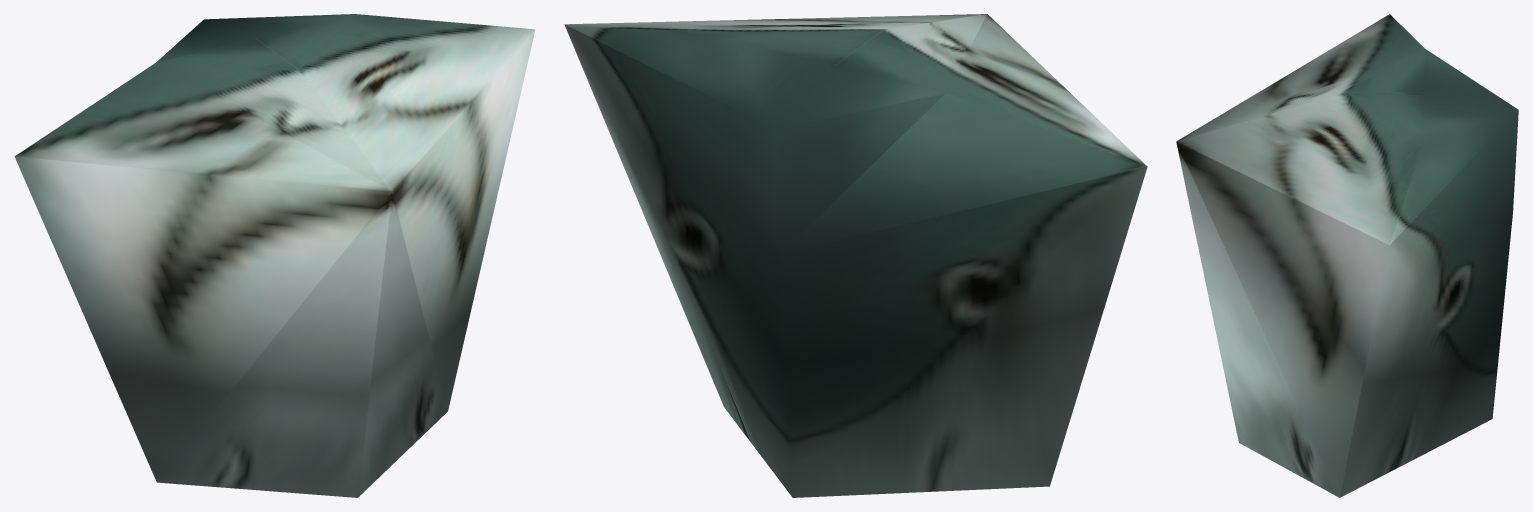
The picture shows the model from 3 angles, left to right: view 1: azimuth 30°, elevation 25°; view 2: azimuth 150°, elevation 25°; view 3: azimuth 270°, elevation 25°; orthographic projection. The views are drawn at different scales.
Visible parts, largest first — view 1: moneybags; view 2: moneybags; view 3: moneybags.
Boxes of the visible parts, left/top/right/bottom form: moneybags: left=14, top=14, right=535, bottom=497; moneybags: left=564, top=14, right=1147, bottom=497; moneybags: left=1176, top=14, right=1518, bottom=497.
Bounding box in the file's own units: 2.1 × 1.48 × 1.31.
Materials: 1 (1 with a texture image).
